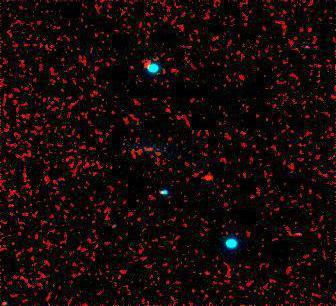star: (193, 164, 223, 194)
